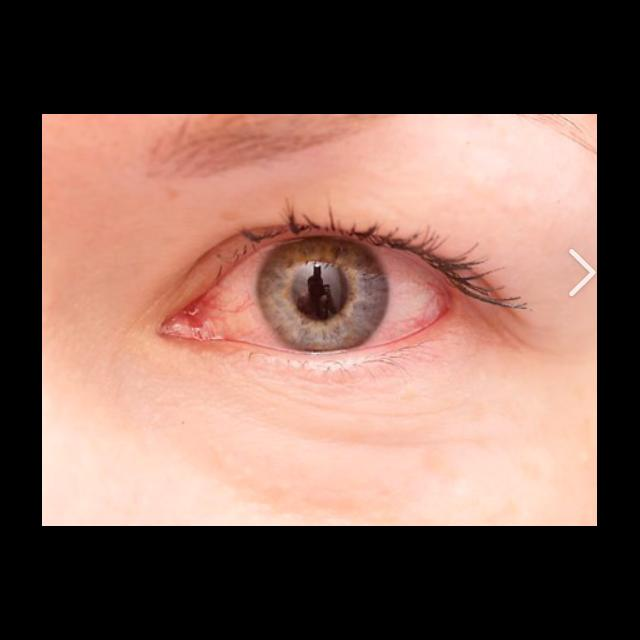eye: (217, 238, 447, 354)
iris: (259, 240, 388, 350)
